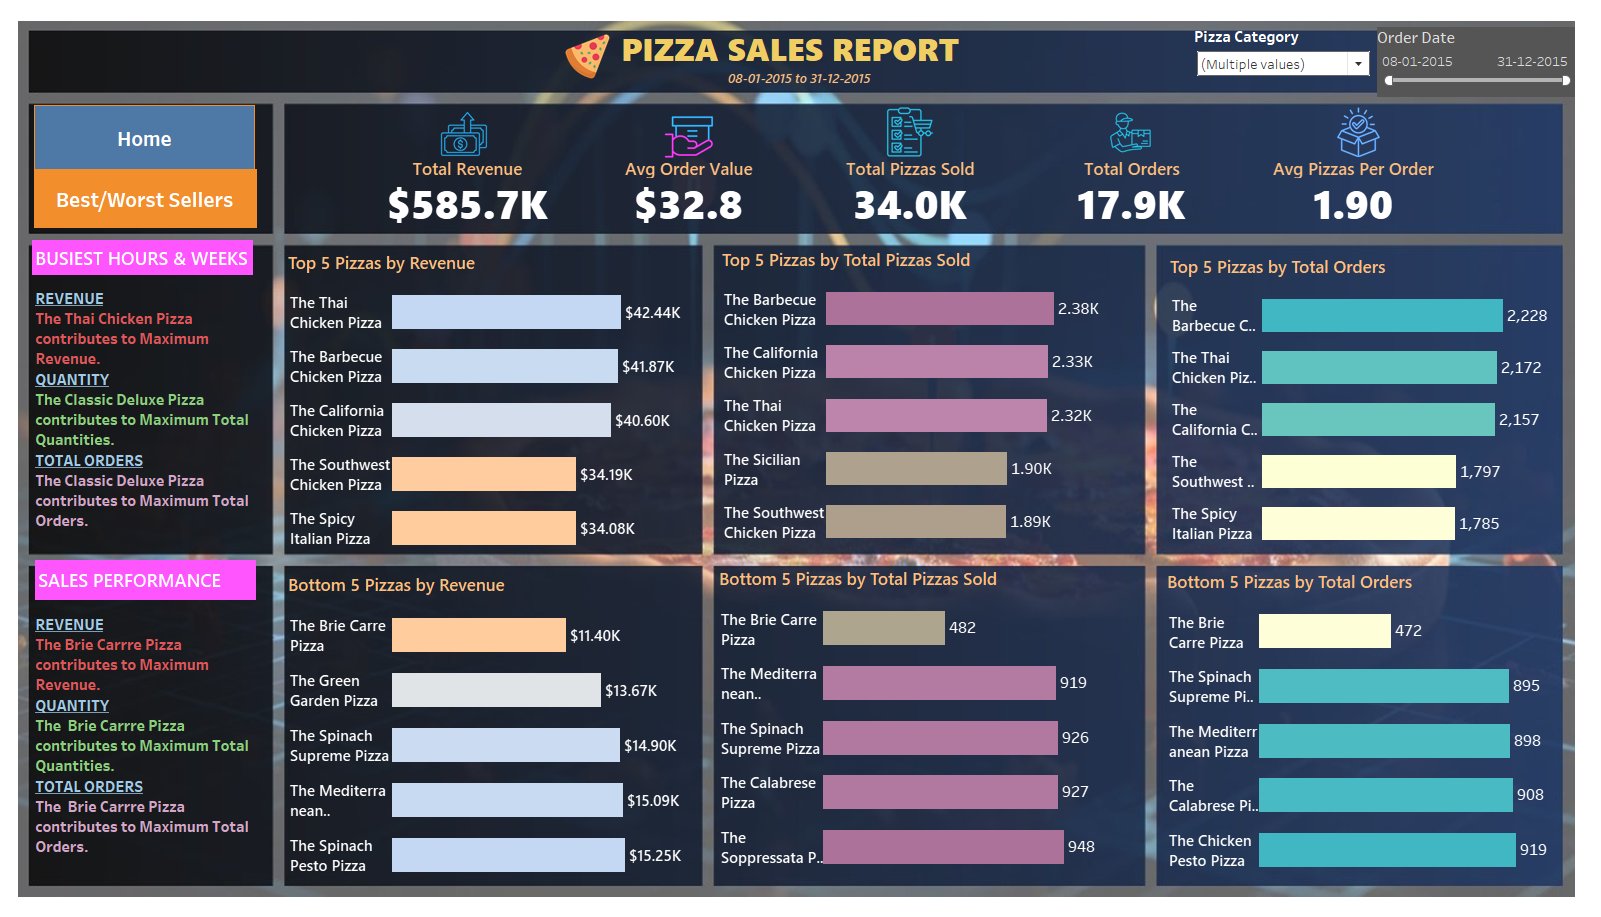

The page's visual inventory and layout, read from the dashboard file:
{"tool":"tableau","page":{"name":"Best/Worst Sellers","canvas":[1000,1000],"units":"permille","ordinal":0},"visuals":[{"type":"image","param":"C:/Users/Tina/Downloads/Pizza_Sales_DA_Project/Pizza Tableau 2.jpg","box":[5.7,10,988.6,980]},{"type":"text","box":[388.1,16.2,267.9,53.7]},{"type":"filter","title":"Date Range","param":"[federated.1rhqq5h0ih03i810tzn9k1f3qnil].[none:pizza_category:nk]","box":[748.2,18.7,111.7,74.9]},{"type":"filter","title":"Date Range","param":"[federated.1rhqq5h0ih03i810tzn9k1f3qnil].[none:order_date:qk]","box":[862.7,20,123.8,77.4]},{"type":"image","param":"C:/Users/Tina/Downloads/Pizza_Sales_DA_Project/Pizza Sales Images/pizza-slice.pn","box":[346.4,26.2,44.8,51.2]},{"type":"worksheet","title":"Date Range","mark":"Automatic","box":[335,62.4,333.1,28.7]},{"type":"dashboard-object","box":[22.9,106.1,138.1,72.4]},{"type":"image","param":"C:/Users/Tina/Downloads/Pizza_Sales_DA_Project/Pizza Sales Images/order-delivery","box":[554.4,107.2,31.9,57.4]},{"type":"image","param":"C:/Users/Tina/Downloads/Pizza_Sales_DA_Project/Pizza Sales Images/order (1).png","box":[835,107.2,31.2,57.4]},{"type":"image","param":"C:/Users/Tina/Downloads/Pizza_Sales_DA_Project/Pizza Sales Images/profit-growth.","box":[271.2,108.5,40.6,58.6]},{"type":"image","param":"C:/Users/Tina/Downloads/Pizza_Sales_DA_Project/Pizza Sales Images/delivery-man.p","box":[695,109.7,26.2,54.9]},{"type":"image","param":"C:/Users/Tina/Downloads/Pizza_Sales_DA_Project/Pizza Sales Images/shipping-box.p","box":[412.5,111,39.4,61.1]},{"type":"worksheet","title":"KPI Banner","mark":"Automatic","box":[225,165.8,691.9,77.3]},{"type":"dashboard-object","box":[22.9,177.3,139.5,66.2]},{"type":"text","box":[22.2,257.2,138.1,38.7]},{"type":"worksheet","title":"Top 5 Pizzas by Total Pizzas Sold","mark":"Automatic","rows":["pizza_name"],"cols":["Calculation_1121959257506127875"],"box":[450.8,260.9,247.4,338.3]},{"type":"worksheet","title":"Top 5 Pizzas by Revenue","mark":"Automatic","rows":["pizza_name"],"cols":["Calculation_1121959257504587776"],"box":[179.5,264.7,257.5,342.1]},{"type":"worksheet","title":"Top 5 Pizzas by Total Orders","mark":"Automatic","rows":["pizza_name"],"cols":["Calculation_1121959257505132545"],"box":[730.3,268.4,248.9,330.8]},{"type":"text","box":[22.2,292.1,138.1,314.6]},{"type":"text","box":[23.6,611.7,138.1,44.9]},{"type":"worksheet","title":"Bottom 5 Pizzas by Total Pizzas Sold","mark":"Automatic","rows":["pizza_name"],"cols":["Calculation_1121959257506127875"],"box":[448.5,615.5,247.5,345.8]},{"type":"worksheet","title":"Bottom 5 Pizzas by Total Orders ","mark":"Automatic","rows":["pizza_name"],"cols":["Calculation_1121959257505132545"],"box":[728.9,619.2,250.4,345.8]},{"type":"worksheet","title":"Bottom 5 Pizzas by Revenue ","mark":"Automatic","rows":["pizza_name"],"cols":["Calculation_1121959257504587776"],"box":[179.5,621.7,258.9,348.3]},{"type":"text","box":[22.2,652.9,138.1,317.1]}]}

Visuals, with their boxes on the dashboard's canvas, which has no fixed pixel size, in thousandths of its width and height (x1, y1, x2, y2). These are canvas units, not pixel positions in the 1601x917 screenshot, which may show the page scaled, cropped or inside an application window:
image: region(6, 10, 994, 990)
text: region(388, 16, 656, 70)
"Date Range" filter: region(748, 19, 860, 94)
"Date Range" filter: region(863, 20, 986, 97)
image: region(346, 26, 391, 77)
"Date Range" worksheet: region(335, 62, 668, 91)
dashboard-object: region(23, 106, 161, 178)
image: region(554, 107, 586, 165)
image: region(835, 107, 866, 165)
image: region(271, 108, 312, 167)
image: region(695, 110, 721, 165)
image: region(412, 111, 452, 172)
"KPI Banner" worksheet: region(225, 166, 917, 243)
dashboard-object: region(23, 177, 162, 244)
text: region(22, 257, 160, 296)
"Top 5 Pizzas by Total Pizzas Sold" worksheet: region(451, 261, 698, 599)
"Top 5 Pizzas by Revenue" worksheet: region(180, 265, 437, 607)
"Top 5 Pizzas by Total Orders" worksheet: region(730, 268, 979, 599)
text: region(22, 292, 160, 607)
text: region(24, 612, 162, 657)
"Bottom 5 Pizzas by Total Pizzas Sold" worksheet: region(448, 616, 696, 961)
"Bottom 5 Pizzas by Total Orders " worksheet: region(729, 619, 979, 965)
"Bottom 5 Pizzas by Revenue " worksheet: region(180, 622, 438, 970)
text: region(22, 653, 160, 970)
